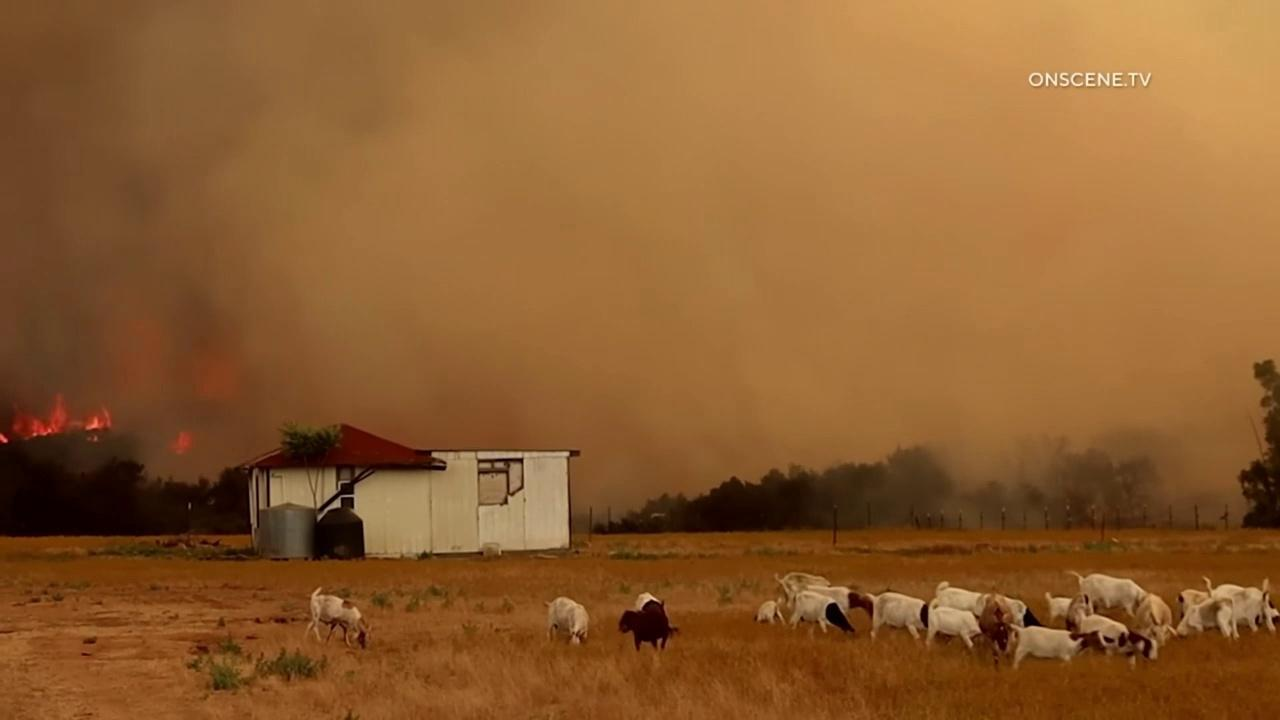fire: (11, 395, 113, 442), (170, 429, 194, 453), (0, 430, 10, 446)
smoke: (0, 0, 1280, 532)
